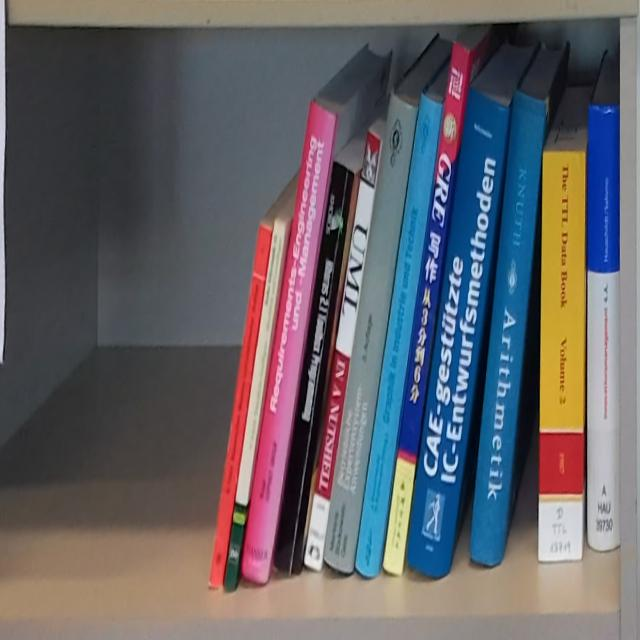Book Spine: (408, 85, 509, 579), (240, 97, 337, 585), (383, 40, 470, 577), (324, 89, 419, 573), (354, 90, 442, 578), (470, 88, 547, 567), (303, 127, 384, 573), (273, 160, 355, 576), (224, 215, 288, 592), (208, 221, 272, 588), (539, 153, 587, 563), (587, 105, 620, 551)
